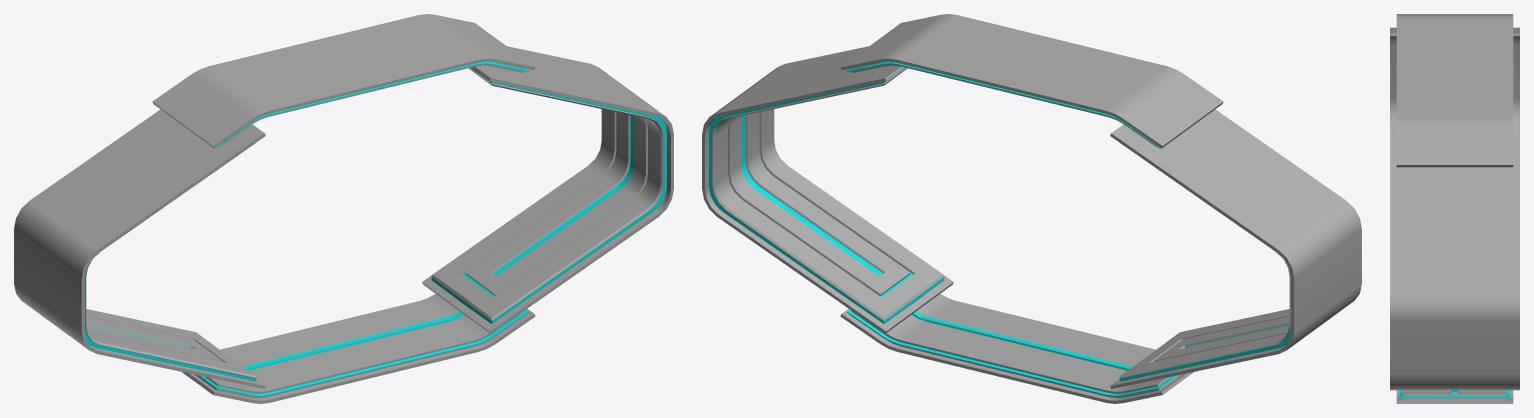
File: Test_Panel_A.fbx
The picture shows the model from 3 angles, left to right: view 1: azimuth 30°, elevation 25°; view 2: azimuth 150°, elevation 25°; view 3: azimuth 270°, elevation 25°; orthographic projection. The views are drawn at different scales.
Visible parts, largest first — view 1: mesh_panel; view 2: mesh_panel; view 3: mesh_panel.
Boxes of the visible parts, bbox=[...] form: mesh_panel: bbox=[14, 14, 673, 403]; mesh_panel: bbox=[702, 14, 1361, 403]; mesh_panel: bbox=[1390, 14, 1519, 403].
Size of the model in its own units: 1010 by 476 by 200.
